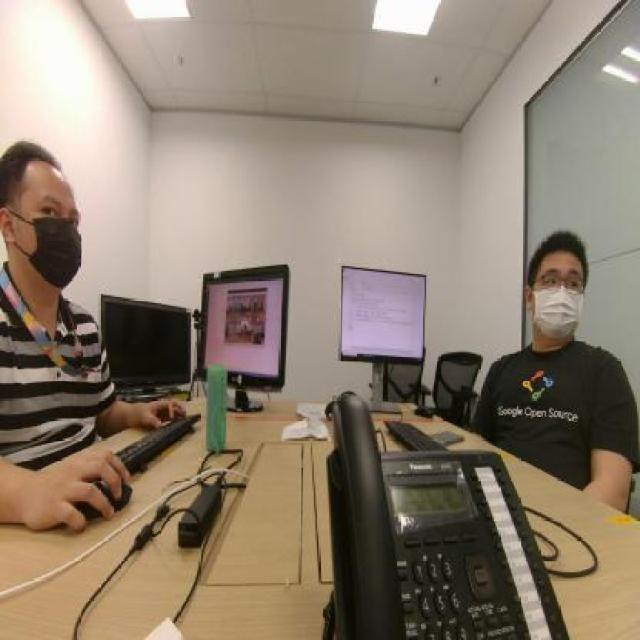Person: (5, 120, 101, 471), (500, 221, 608, 456)
